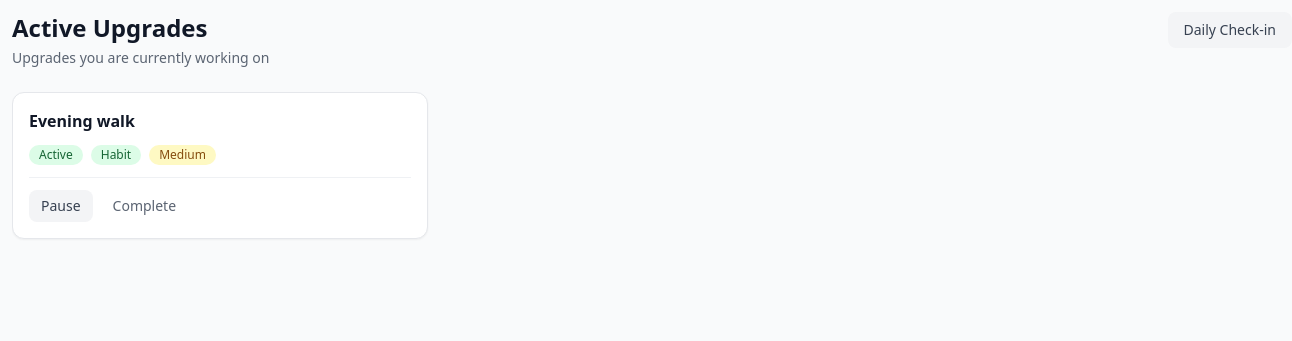
Test: ActiveUpgradesPage, completing an upgrade › GivenAnActiveUpgrade_WhenCompleteIsPressed_ThenItIsCompletedAndLeavesBothLists
Click the button "Complete " at (144, 206), box [101,190,188,222]
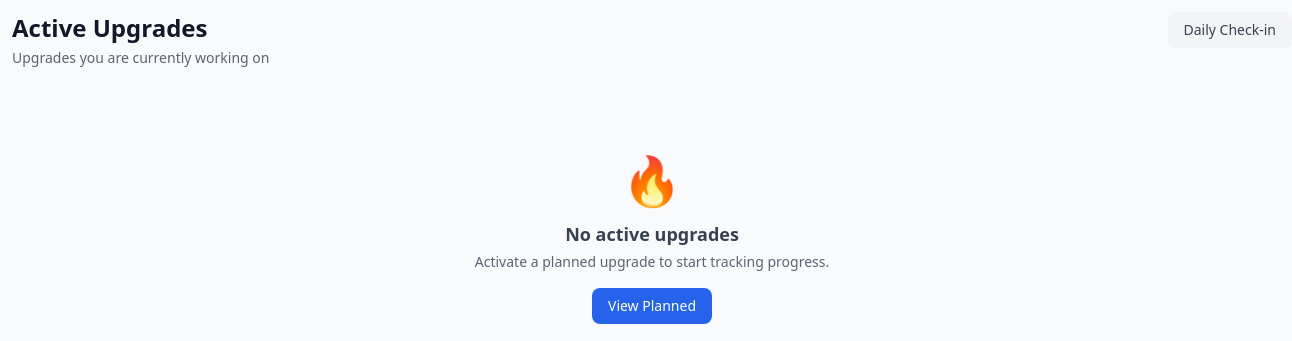
Check: the heading "No active upgrades" is shown, box [565,220,739,248]
